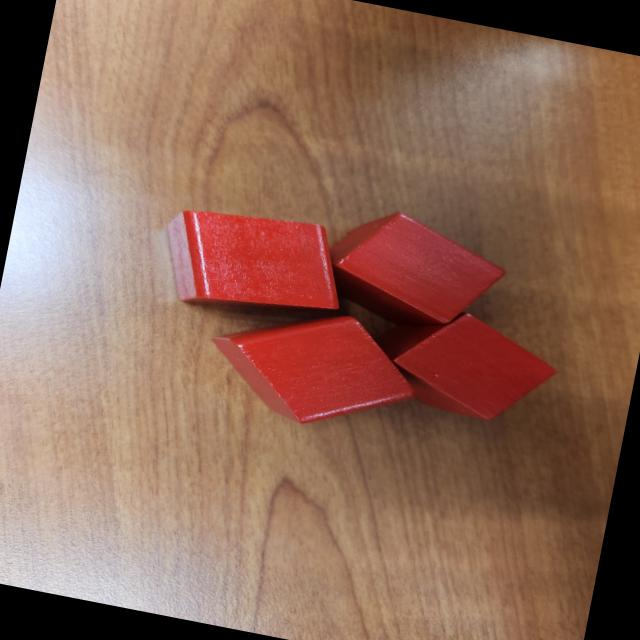red: (198, 290, 432, 446), (313, 199, 516, 342), (154, 196, 358, 336), (383, 301, 568, 436)
